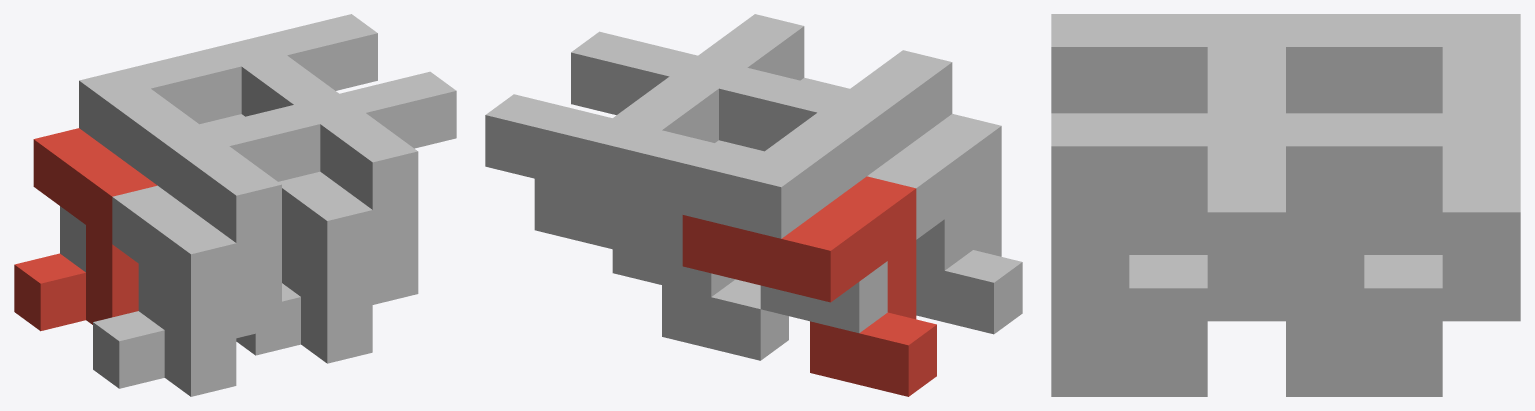
File: tiling.obj
3 renders of one model, left to right at view 1: azimuth 30°, elevation 25°; view 2: azimuth 150°, elevation 25°; view 3: azimuth 270°, elevation 25°, orthographic. The views are drawn at different scales.
Visible parts, largest first — view 1: copy_1_domain_2, copy_1_domain_4, copy_1_domain_8, copy_1_domain_1, copy_1_domain_6, copy_1_domain_3, copy_1_domain_7; view 2: copy_1_domain_1, copy_1_domain_3, copy_1_domain_7, copy_1_domain_4, copy_1_domain_2, copy_1_domain_5, copy_1_domain_8; view 3: copy_1_domain_7, copy_1_domain_8, copy_1_domain_3, copy_1_domain_4, copy_1_domain_5, copy_1_domain_6.
Boxes of the visible parts, x1=… form: copy_1_domain_2: x1=93, y1=185, x2=236, y2=396; copy_1_domain_4: x1=138, y1=105, x2=320, y2=338; copy_1_domain_8: x1=282, y1=71, x2=456, y2=304; copy_1_domain_1: x1=14, y1=128, x2=157, y2=331; copy_1_domain_6: x1=236, y1=171, x2=372, y2=363; copy_1_domain_3: x1=60, y1=47, x2=241, y2=272; copy_1_domain_7: x1=215, y1=14, x2=377, y2=116; copy_1_domain_1: x1=682, y1=176, x2=936, y2=396; copy_1_domain_3: x1=633, y1=112, x2=887, y2=333; copy_1_domain_7: x1=485, y1=76, x2=734, y2=296; copy_1_domain_4: x1=719, y1=50, x2=973, y2=270; copy_1_domain_2: x1=867, y1=114, x2=1022, y2=334; copy_1_domain_5: x1=534, y1=140, x2=788, y2=360; copy_1_domain_8: x1=571, y1=14, x2=804, y2=114; copy_1_domain_7: x1=1286, y1=113, x2=1520, y2=358; copy_1_domain_8: x1=1051, y1=113, x2=1285, y2=358; copy_1_domain_3: x1=1286, y1=14, x2=1520, y2=113; copy_1_domain_4: x1=1051, y1=14, x2=1285, y2=113; copy_1_domain_5: x1=1286, y1=217, x2=1520, y2=396; copy_1_domain_6: x1=1051, y1=217, x2=1285, y2=396.
Bounding box in the file's own units: 8 × 4 × 6.
